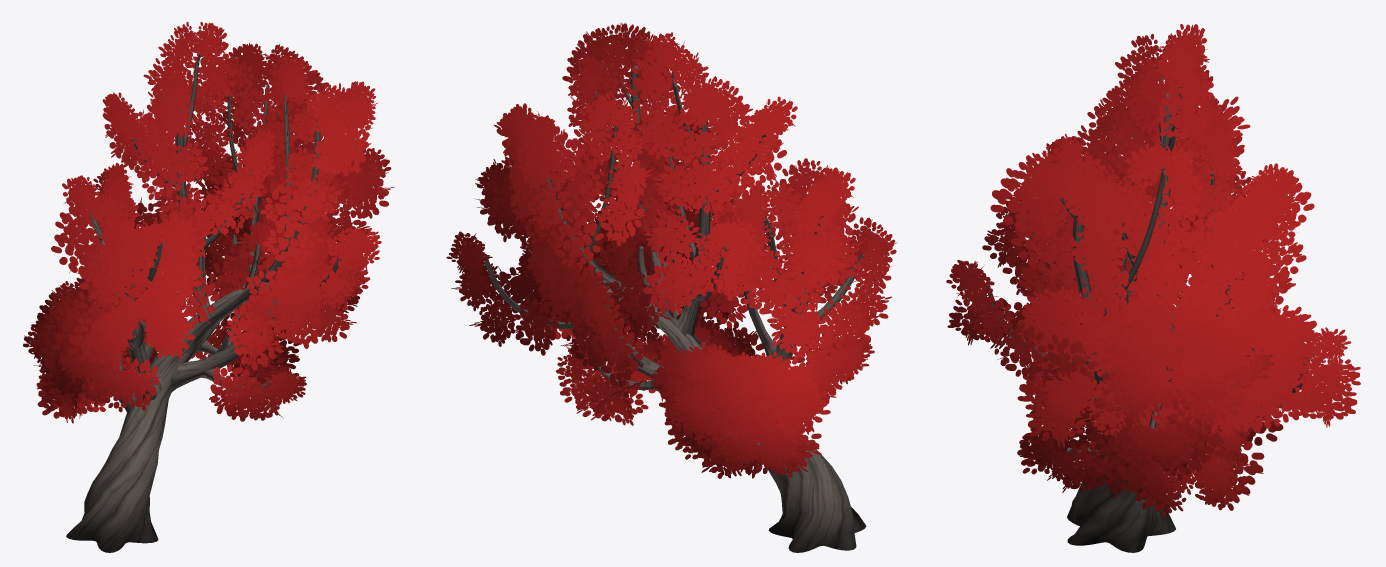
File: sn_twisted_tree_1.glb
3 renders of one model, left to right at view 1: azimuth 30°, elevation 25°; view 2: azimuth 150°, elevation 25°; view 3: azimuth 270°, elevation 25°, orthographic. The views are drawn at different scales.
Visible parts, largest first — view 1: TwistedTree_1; view 2: TwistedTree_1; view 3: TwistedTree_1.
Part boxes in pixels (x1,y1,x2,y2): TwistedTree_1: [23, 21, 394, 552]; TwistedTree_1: [446, 22, 897, 552]; TwistedTree_1: [946, 24, 1360, 552].
Bounding box in the file's own units: 13.52 × 16.73 × 11.55.
Materials: 2 (2 with a texture image).
